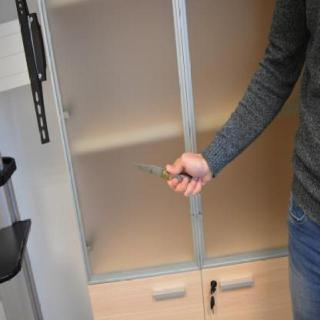knife: (129, 160, 205, 198)
